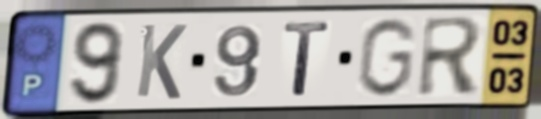9: (67, 18, 126, 107), (211, 22, 264, 99)
G: (353, 15, 420, 100)
K: (133, 21, 190, 103)
R: (414, 14, 486, 100)
T: (280, 19, 333, 99)
